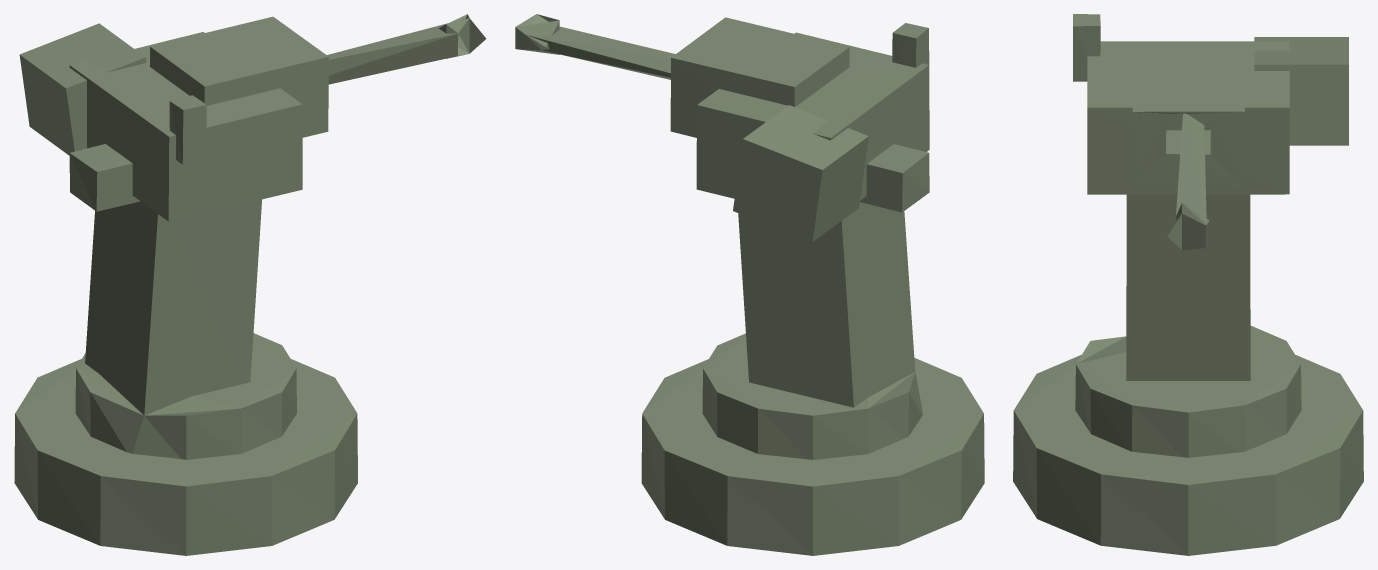
Rendered from turret_fr.lod2.glb.
3 views of the same model, side by side, from view 1: azimuth 30°, elevation 25°; view 2: azimuth 150°, elevation 25°; view 3: azimuth 270°, elevation 25° (orthographic). The views are drawn at different scales.
Bounding box in the file's own units: 1.83 × 1.71 × 1.24.
